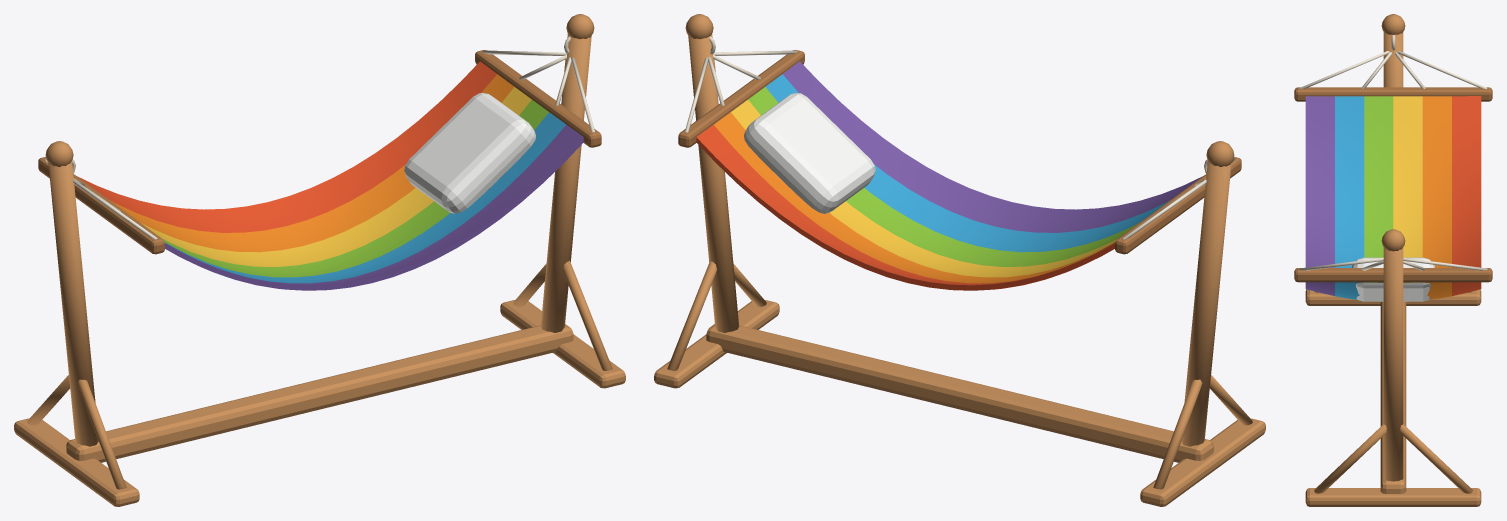
The model's file is rainbowHammock.glb.
The picture shows the model from 3 angles, left to right: view 1: azimuth 30°, elevation 25°; view 2: azimuth 150°, elevation 25°; view 3: azimuth 270°, elevation 25°; orthographic projection. The views are drawn at different scales.
Visible parts, largest first — view 1: sling, body; view 2: sling, body; view 3: sling, body.
Part boxes in pixels (<box>): sling: <box>38,36,601,290</box>; body: <box>14,14,625,506</box>; sling: <box>678,36,1241,290</box>; body: <box>654,14,1265,506</box>; sling: <box>1294,35,1492,301</box>; body: <box>1305,14,1481,506</box>.
Size of the model in its own units: 1.88 by 1.09 by 0.7.
